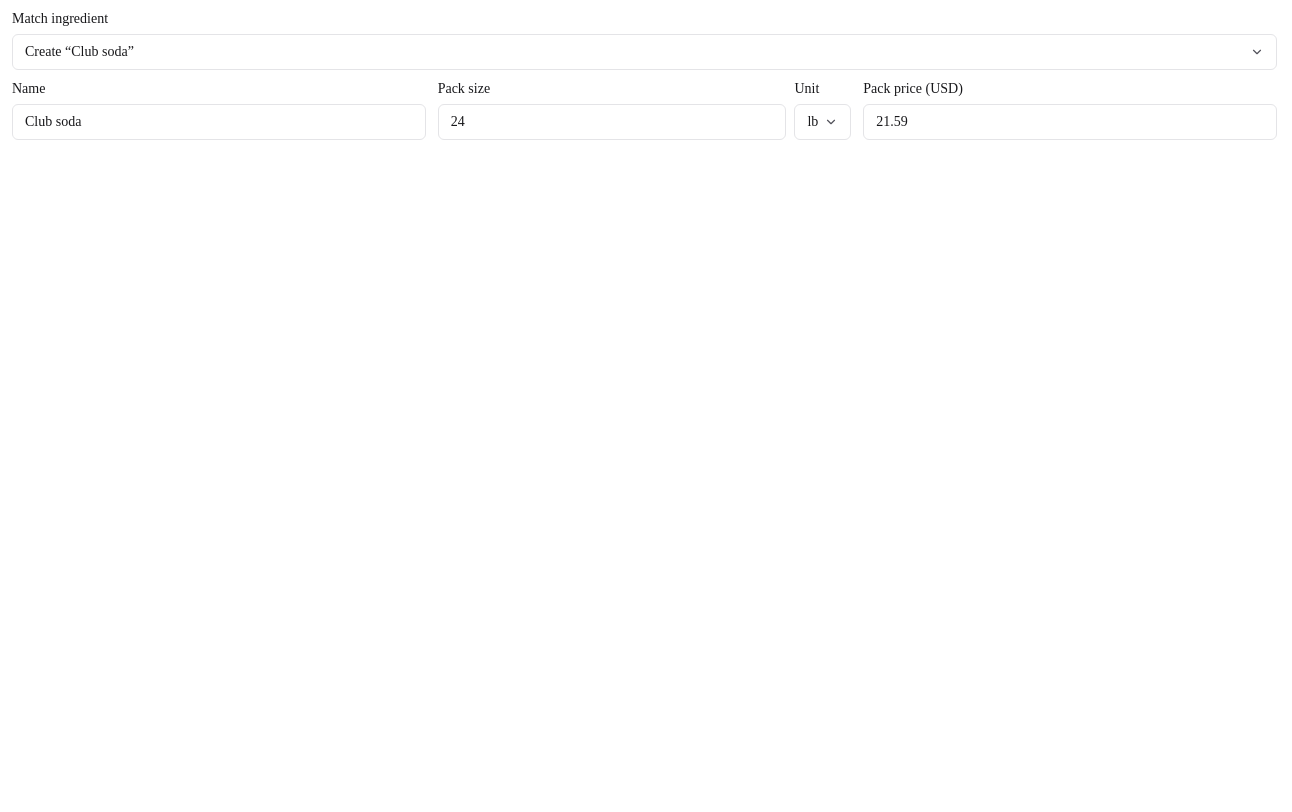
Test case: LineCostFields › asks for the pack in any purchasing unit, grouped by family
This screenshot has width=1292, height=812.
Expected: the number field labelled "Pack size" is shown, x1=438 y1=104 x2=786 y2=140
Click the dropdown named "Pack size unit": (823, 122) x1=794 y1=104 x2=851 y2=140
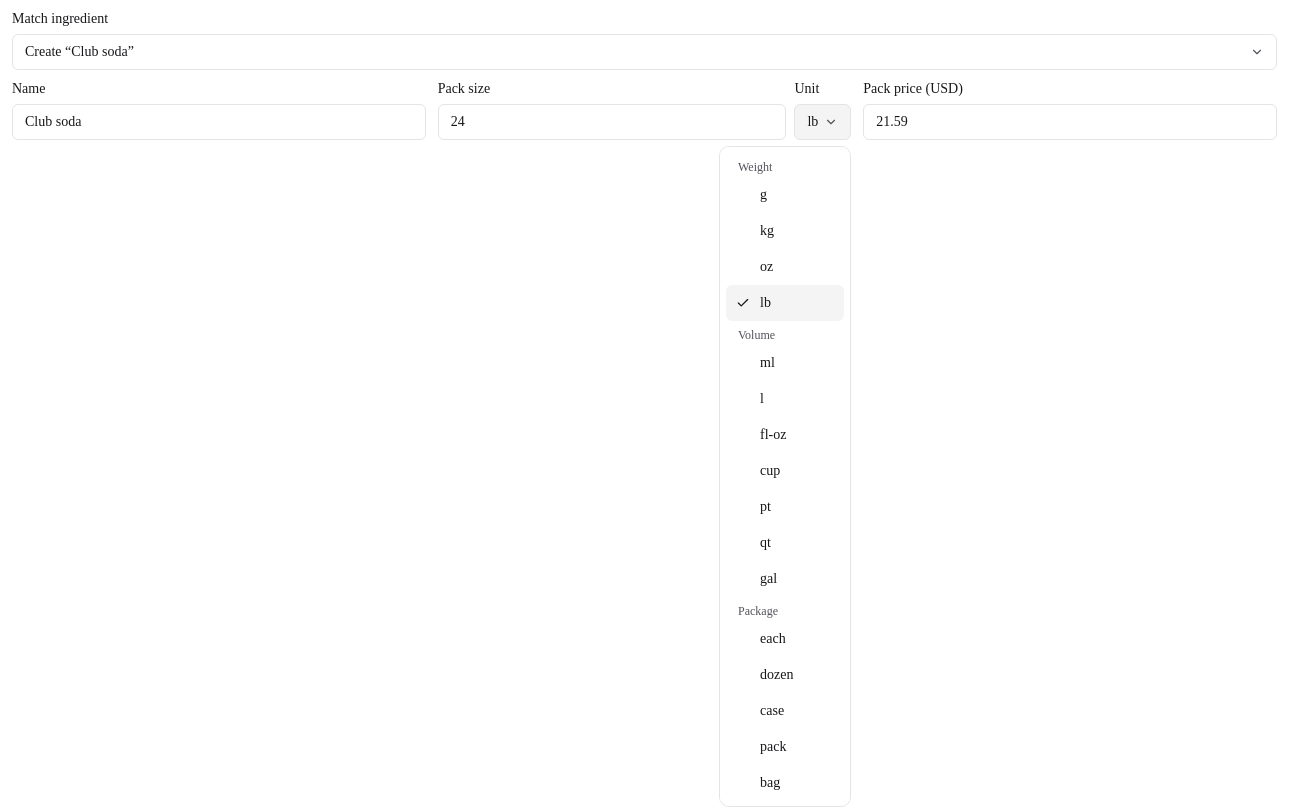
Result: the element "Weight" is shown at x1=726 y1=153 x2=844 y2=321
Result: the element "Volume" is shown at x1=738 y1=328 x2=786 y2=586
Result: the option "gal" is shown at x1=760 y1=571 x2=777 y2=586
